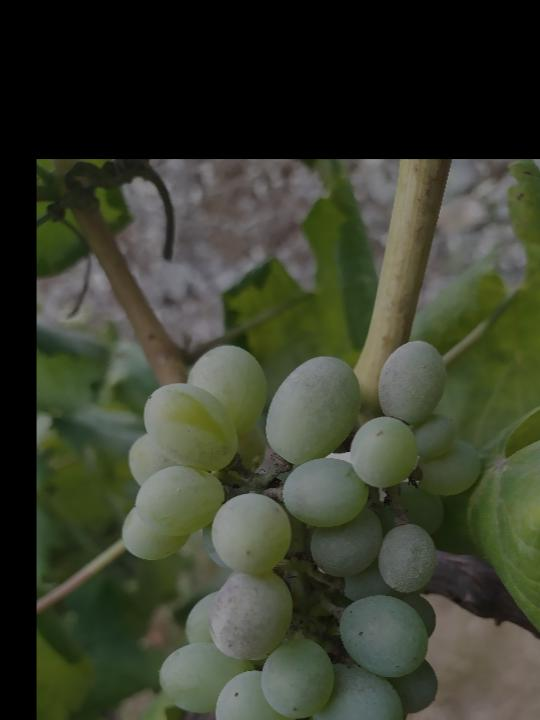grape: (118, 332, 483, 720)
